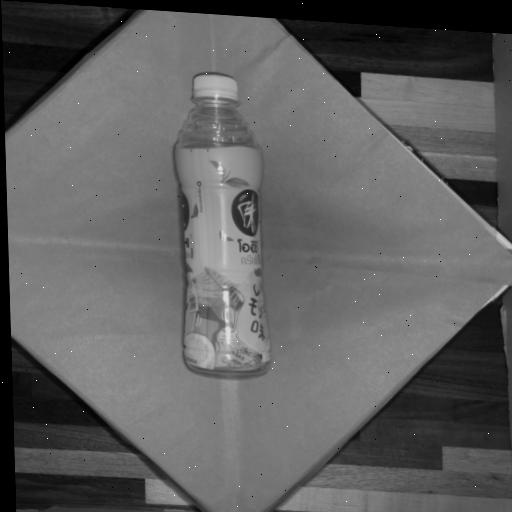bottle: (169, 71, 269, 383)
